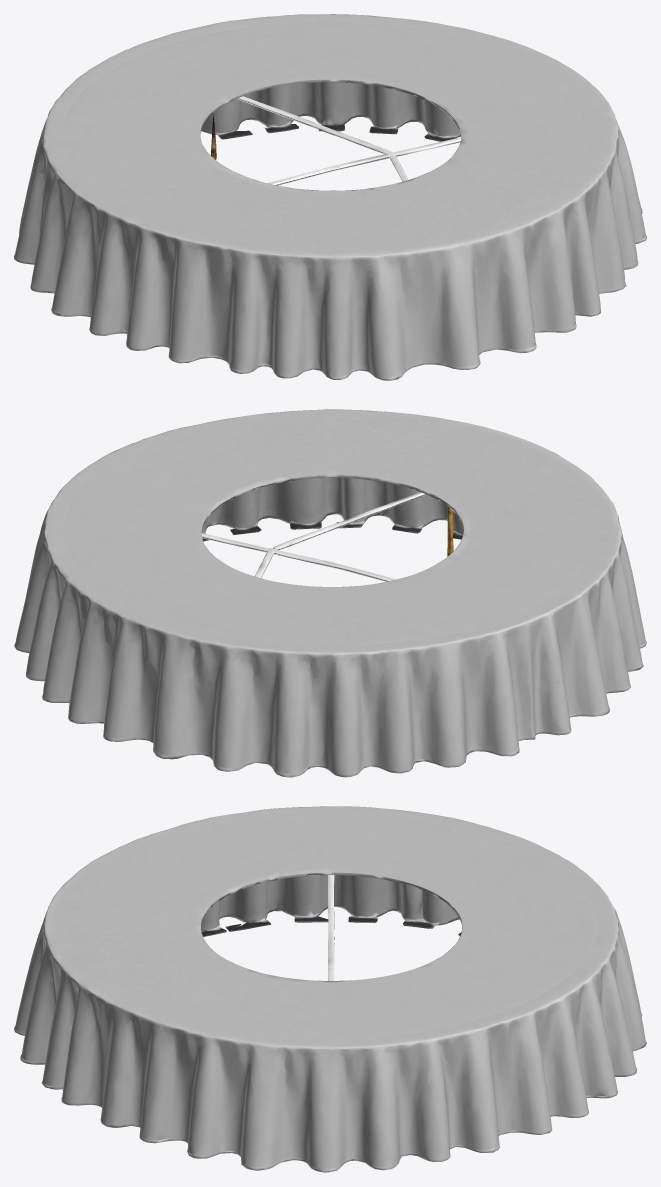
The model's file is table-round-380.glb.
The picture shows the model from 3 angles, top to bottom: view 1: azimuth 30°, elevation 25°; view 2: azimuth 150°, elevation 25°; view 3: azimuth 270°, elevation 25°; orthographic projection.
Parts seen in each view (by area): view 1: tripo_node_fb6075e8-5dd0-440b-851b-51141d754c99; view 2: tripo_node_fb6075e8-5dd0-440b-851b-51141d754c99; view 3: tripo_node_fb6075e8-5dd0-440b-851b-51141d754c99.
Part boxes in pixels (x1,y1,x2,y2): tripo_node_fb6075e8-5dd0-440b-851b-51141d754c99: [14, 14, 646, 380]; tripo_node_fb6075e8-5dd0-440b-851b-51141d754c99: [14, 409, 646, 777]; tripo_node_fb6075e8-5dd0-440b-851b-51141d754c99: [14, 806, 646, 1172].
Size of the model in its own units: 3.8 by 0.75 by 3.8.
Materials: 1 (1 with a texture image).
